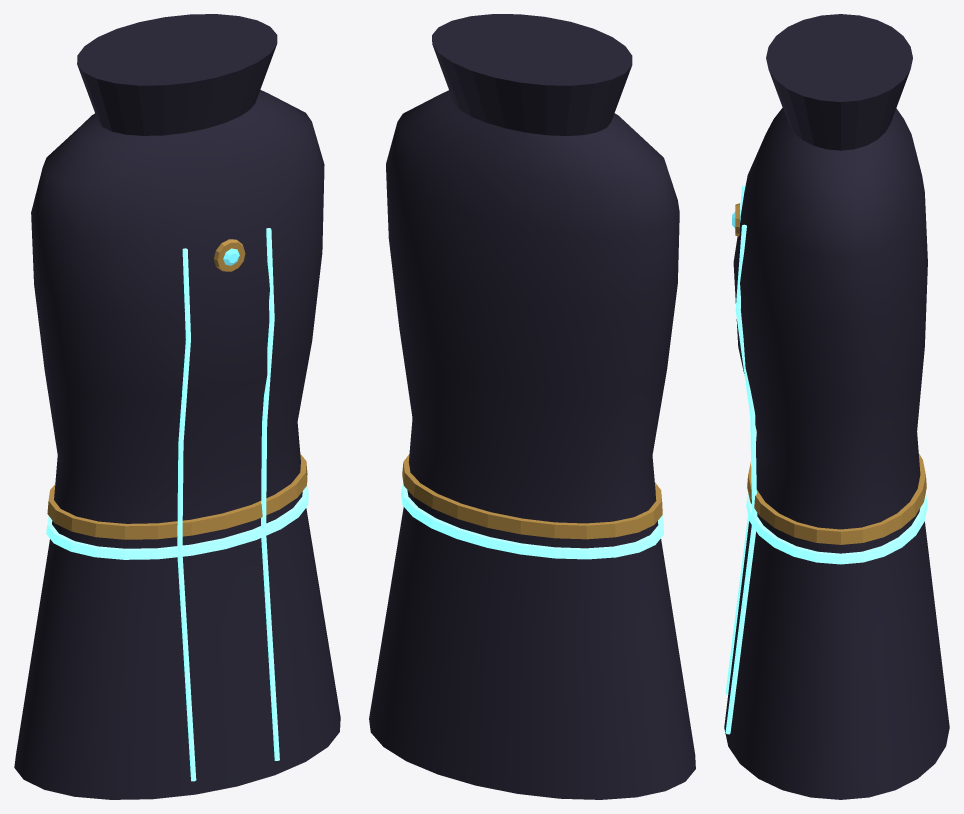
File: body_ward_coat.glb
The picture shows the model from 3 angles, left to right: view 1: azimuth 30°, elevation 25°; view 2: azimuth 150°, elevation 25°; view 3: azimuth 270°, elevation 25°; orthographic projection. The views are drawn at different scales.
Parts seen in each view (by area): view 1: Body_ward_coat_Cloth_dark, Body_ward_coat_Glow_aetheric, Body_ward_coat_Brass; view 2: Body_ward_coat_Cloth_dark, Body_ward_coat_Brass, Body_ward_coat_Glow_aetheric; view 3: Body_ward_coat_Cloth_dark, Body_ward_coat_Glow_aetheric, Body_ward_coat_Brass.
Part boxes in pixels (x1,y1,x2,y2): Body_ward_coat_Cloth_dark: [14, 14, 340, 799]; Body_ward_coat_Glow_aetheric: [46, 228, 308, 781]; Body_ward_coat_Brass: [47, 239, 307, 539]; Body_ward_coat_Cloth_dark: [369, 14, 695, 799]; Body_ward_coat_Brass: [402, 454, 662, 539]; Body_ward_coat_Glow_aetheric: [401, 484, 663, 559]; Body_ward_coat_Cloth_dark: [724, 14, 949, 799]; Body_ward_coat_Glow_aetheric: [725, 185, 927, 734]; Body_ward_coat_Brass: [735, 203, 926, 544].
Bounding box in the file's own units: 0.44 × 0.95 × 0.29.
